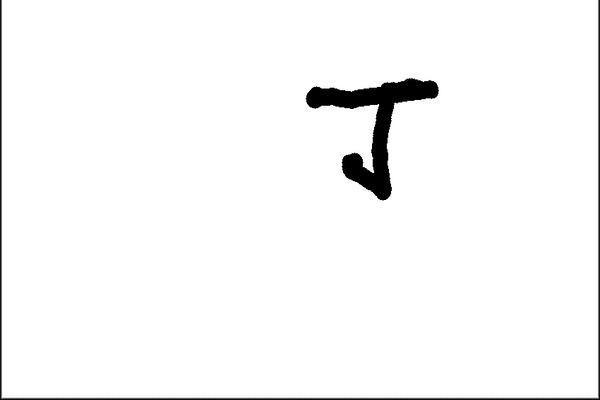J: (294, 70, 446, 204)
